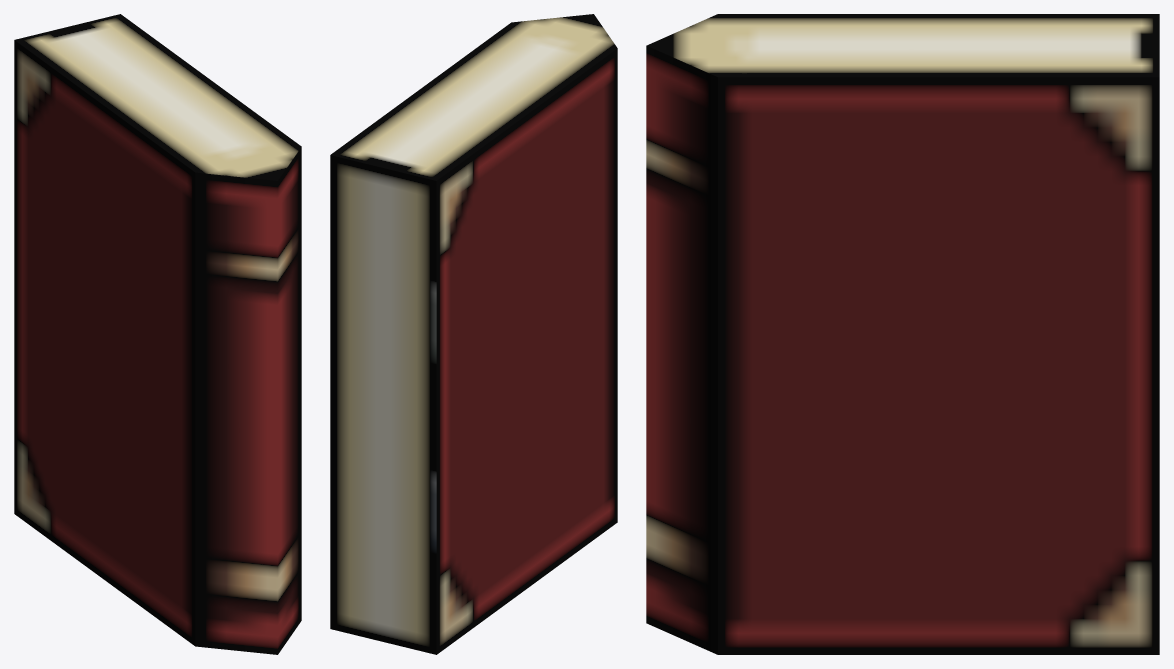
File: deco_cathedral_book_A.FBX
3 views of the same model, side by side, from view 1: azimuth 30°, elevation 25°; view 2: azimuth 150°, elevation 25°; view 3: azimuth 270°, elevation 25° (orthographic). The views are drawn at different scales.
Parts seen in each view (by area): view 1: deco_cathedral_book_A; view 2: deco_cathedral_book_A; view 3: deco_cathedral_book_A.
Part boxes in pixels (x1,y1,x2,y2): deco_cathedral_book_A: (14,14,301,654); deco_cathedral_book_A: (330,14,617,654); deco_cathedral_book_A: (646,14,1159,654).
Size of the model in its own units: 0.2349 by 1 by 0.8048.
Materials: 1 (1 with a texture image).
